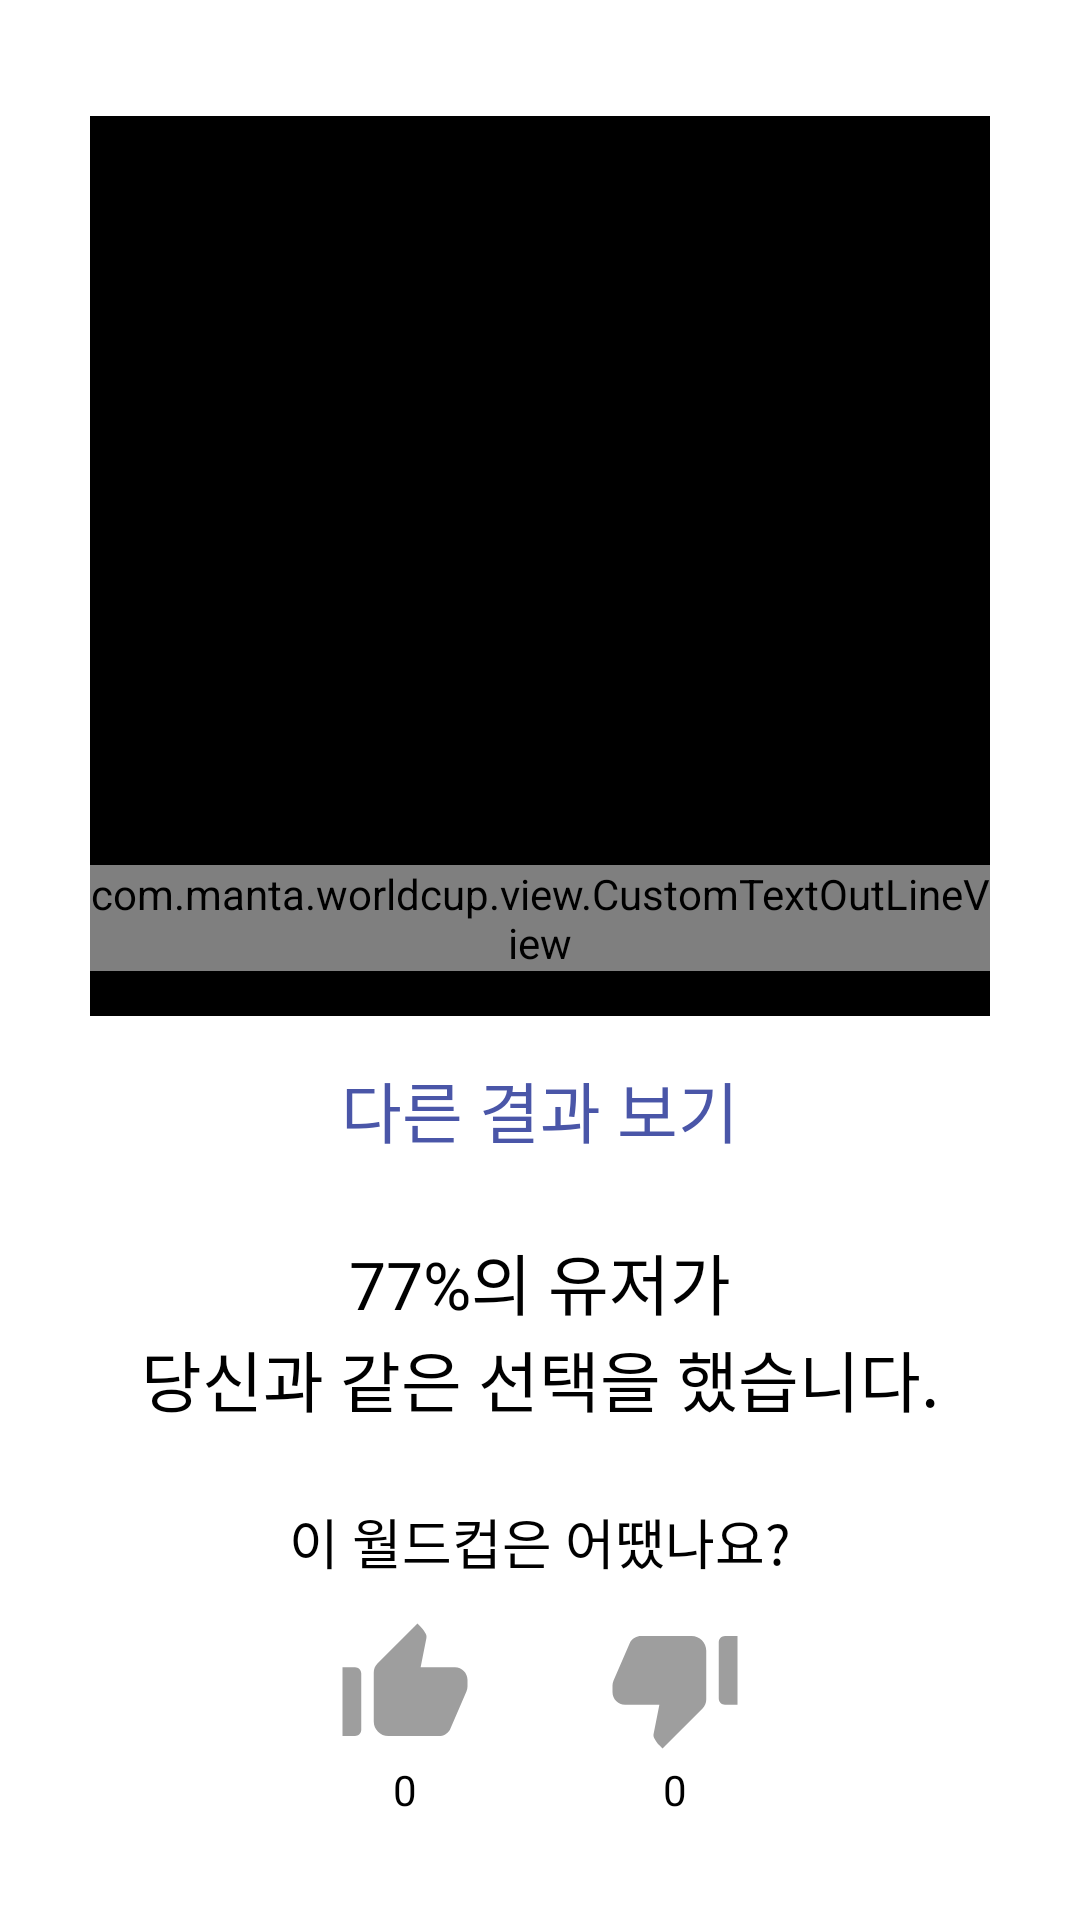

Where icons sit on this 1080px x 1920px app screen, as (x1, y1, x2, y2):
thumb down: (612, 1636, 738, 1749)
thumb up: (342, 1624, 468, 1736)
